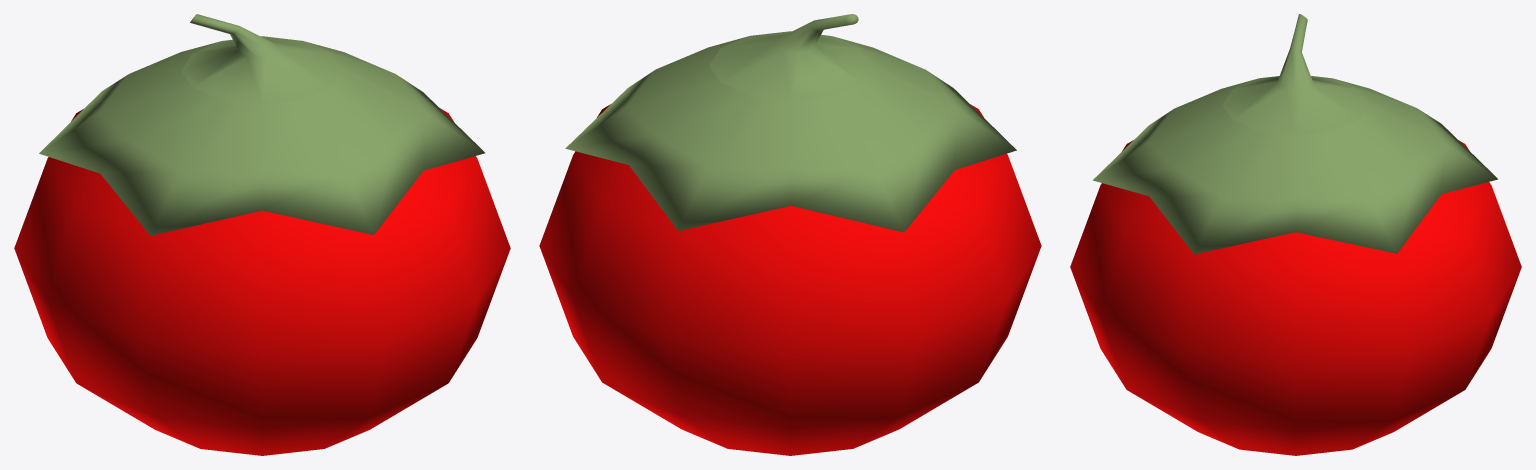
The model's file is fruit.fbx.
3 views of the same model, side by side, from view 1: azimuth 30°, elevation 25°; view 2: azimuth 150°, elevation 25°; view 3: azimuth 270°, elevation 25° (orthographic). The views are drawn at different scales.
Parts seen in each view (by area): view 1: polySurface1; view 2: polySurface1; view 3: polySurface1.
Part boxes in pixels (left/top/right/bottom): polySurface1: left=14, top=14, right=510, bottom=455; polySurface1: left=539, top=14, right=1041, bottom=455; polySurface1: left=1070, top=14, right=1521, bottom=455.
Size of the model in its own units: 16.21 by 15.34 by 16.21.
